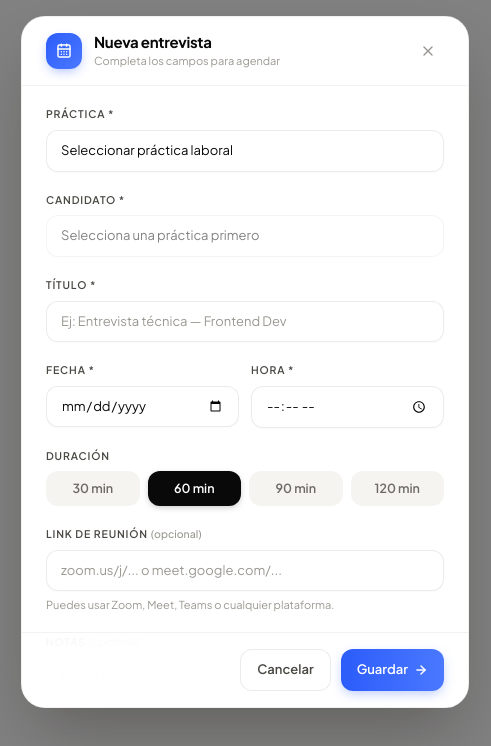
Test case: InterviewFormModal › validaciones del submit › error si internshipId está vacío
The width and height of the screenshot is (491, 746).
Click the button "Guardar".
click(392, 670)  # box [341,649,444,691]
(page scrolled)
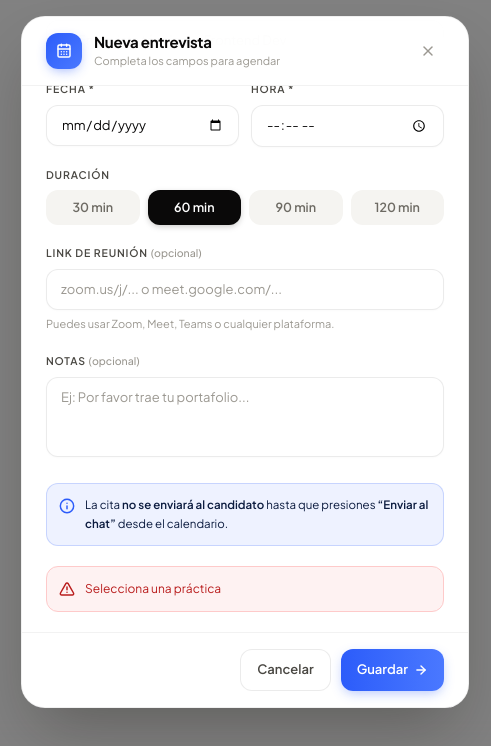
Check: the text "Selecciona una práctica" is shown, box [85,579,221,599]
